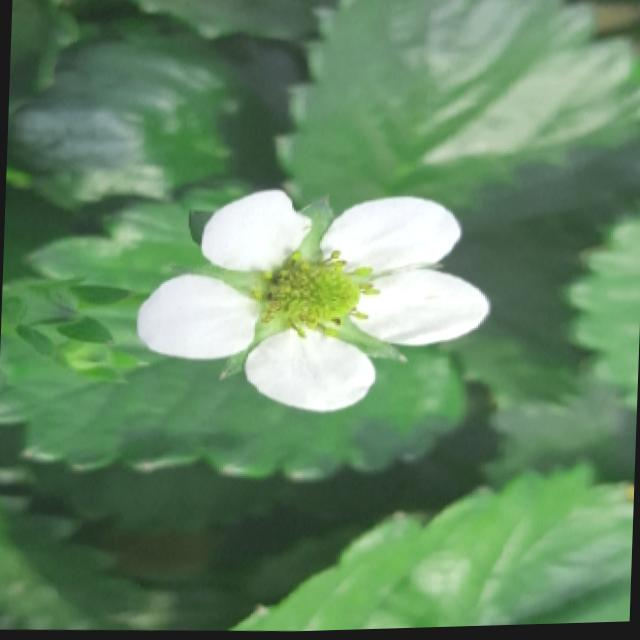Blossom Blight: (243, 244, 382, 344)
